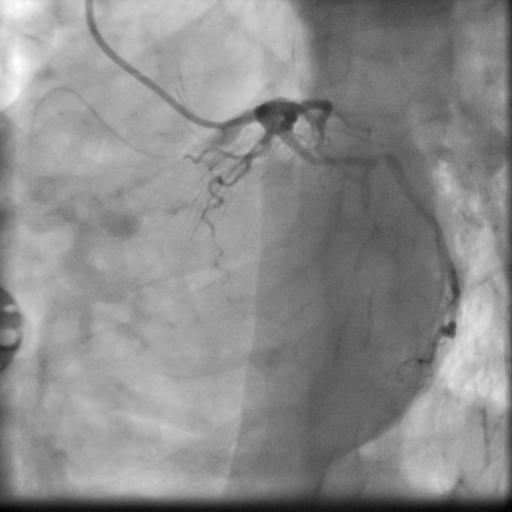Stenosis: (398, 189, 433, 222)
